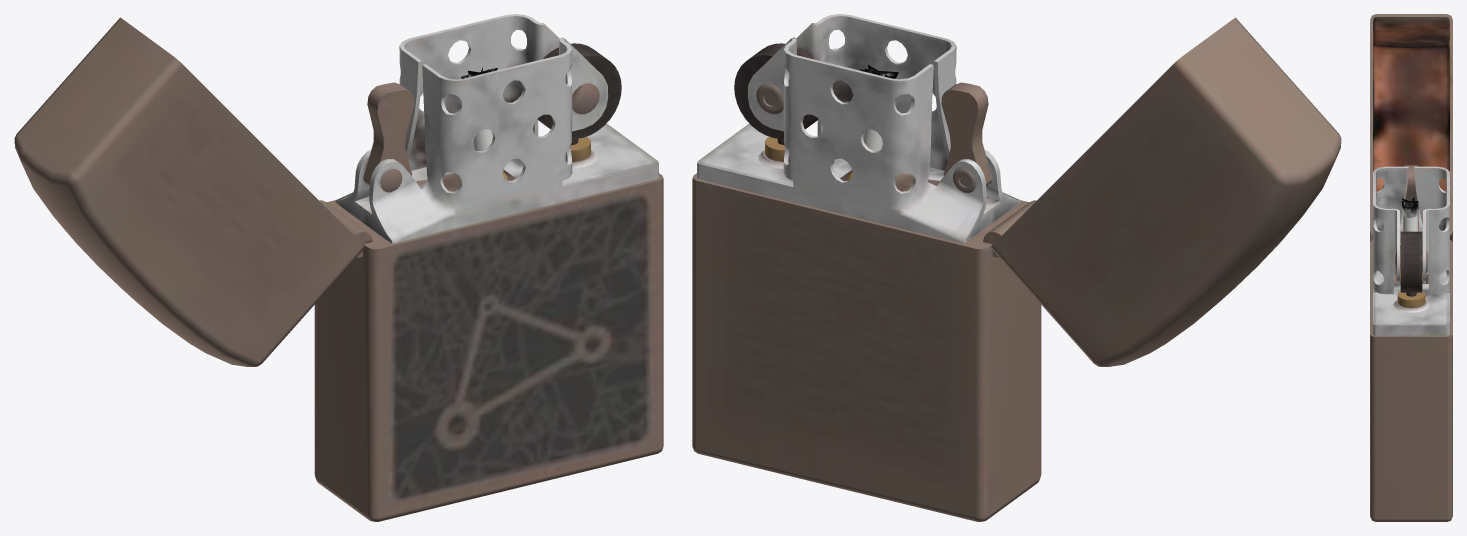
File: vintage_lighter.glb
3 views of the same model, side by side, from view 1: azimuth 30°, elevation 25°; view 2: azimuth 150°, elevation 25°; view 3: azimuth 270°, elevation 25° (orthographic). The views are drawn at different scales.
Parts seen in each view (by area): view 1: vintage_lighter_body, vintage_lighter_hinge, vintage_lighter_hammer, vintage_lighter_flintstone; view 2: vintage_lighter_body, vintage_lighter_hinge, vintage_lighter_hammer, vintage_lighter_flintstone; view 3: vintage_lighter_body, vintage_lighter_hinge, vintage_lighter_flintstone, vintage_lighter_hammer.
Part boxes in pixels (bbox=[...]): vintage_lighter_body: bbox=[314, 14, 663, 521]; vintage_lighter_hinge: bbox=[14, 17, 372, 366]; vintage_lighter_hammer: bbox=[363, 82, 414, 192]; vintage_lighter_flintstone: bbox=[537, 43, 621, 138]; vintage_lighter_body: bbox=[692, 14, 1041, 521]; vintage_lighter_hinge: bbox=[983, 17, 1341, 366]; vintage_lighter_hammer: bbox=[941, 82, 992, 192]; vintage_lighter_flintstone: bbox=[734, 43, 818, 138]; vintage_lighter_body: bbox=[1370, 166, 1452, 521]; vintage_lighter_hinge: bbox=[1370, 14, 1452, 241]; vintage_lighter_flintstone: bbox=[1395, 231, 1427, 292]; vintage_lighter_hammer: bbox=[1404, 165, 1418, 225].
Bounding box in the file's own units: 0.0796 × 0.065 × 0.014.
Materials: 2 (2 with a texture image).
